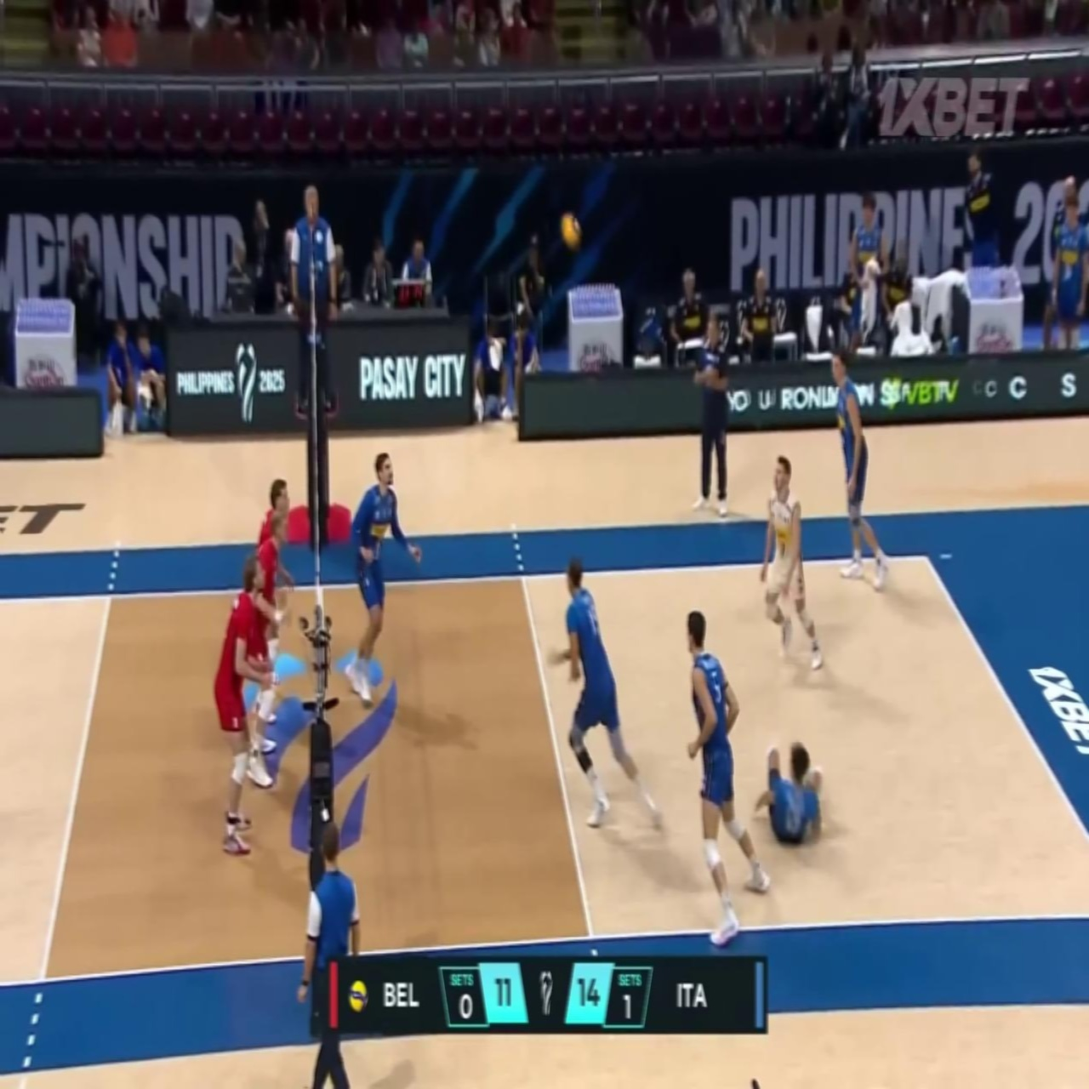ball: (560, 212, 580, 248)
